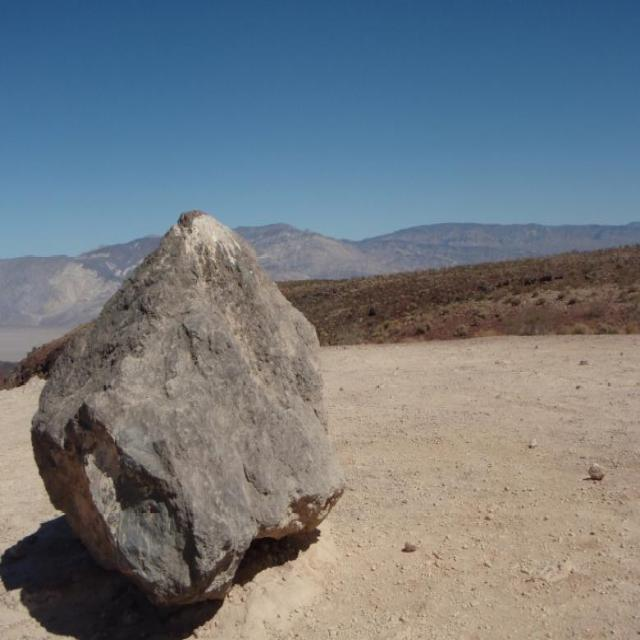cement: (277, 245, 639, 345), (0, 326, 85, 388)
stone: (31, 211, 345, 605)
white-sand: (0, 335, 639, 639)
